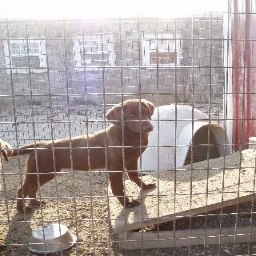dog: (9, 97, 155, 220)
